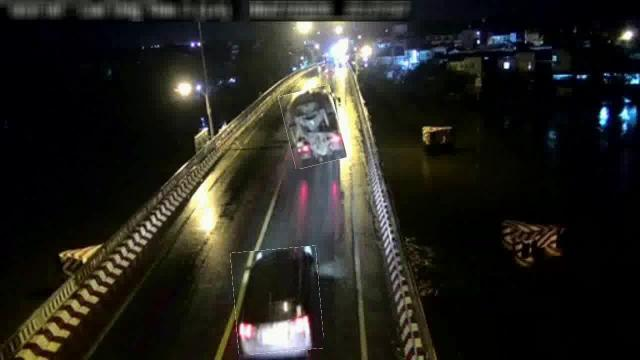Car: (232, 247, 322, 353)
Truck: (283, 87, 343, 167)
